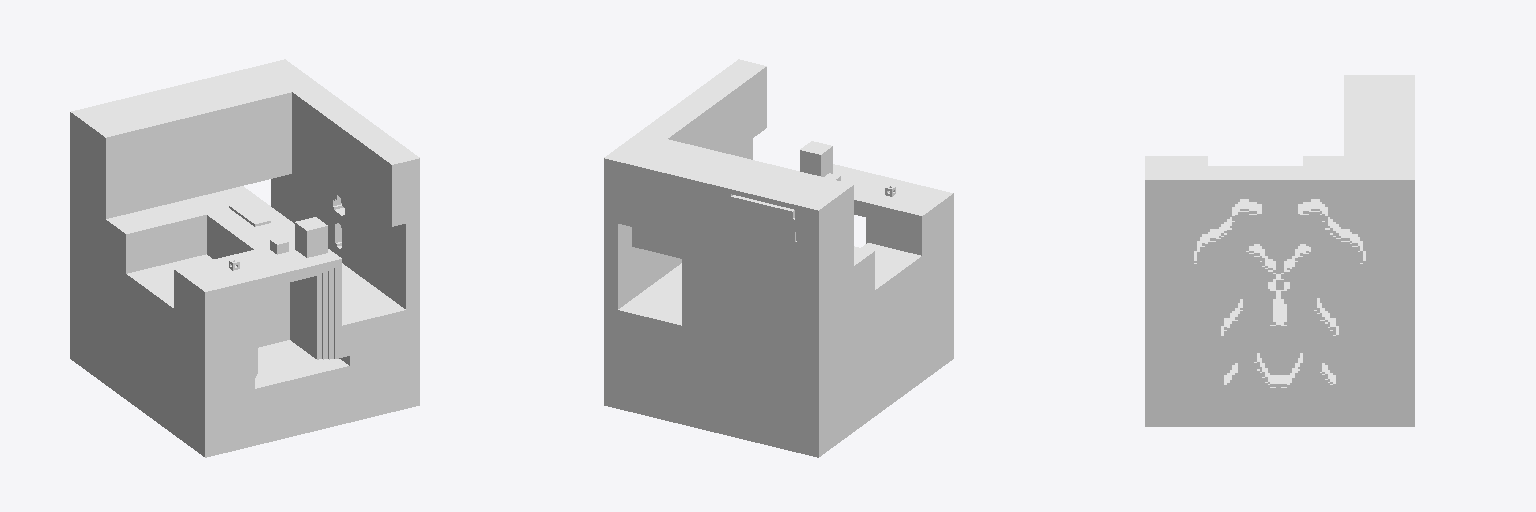
The model's file is world_canyon.obj.
The picture shows the model from 3 angles: view 1: azimuth 30°, elevation 25°; view 2: azimuth 150°, elevation 25°; view 3: azimuth 270°, elevation 25°; orthographic projection.
Bounding box in the file's own units: 100 × 100 × 99.